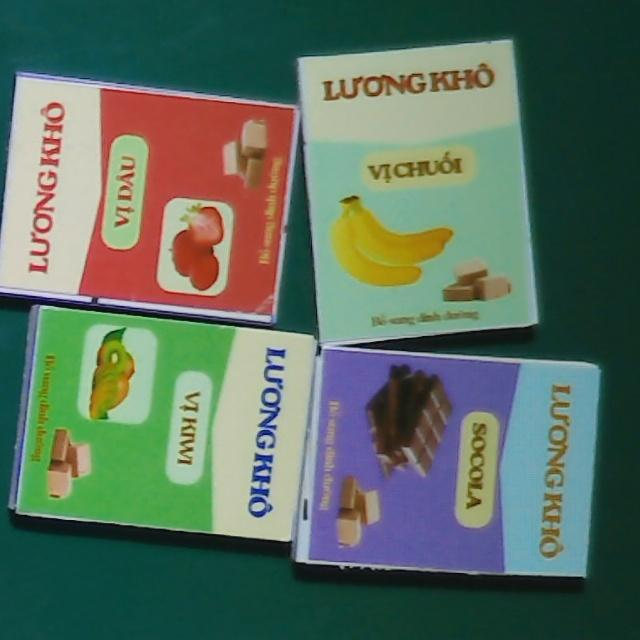chuoi: (296, 39, 536, 346)
dau: (0, 72, 301, 327)
kiwi: (9, 306, 315, 543)
socola: (294, 347, 599, 578)
